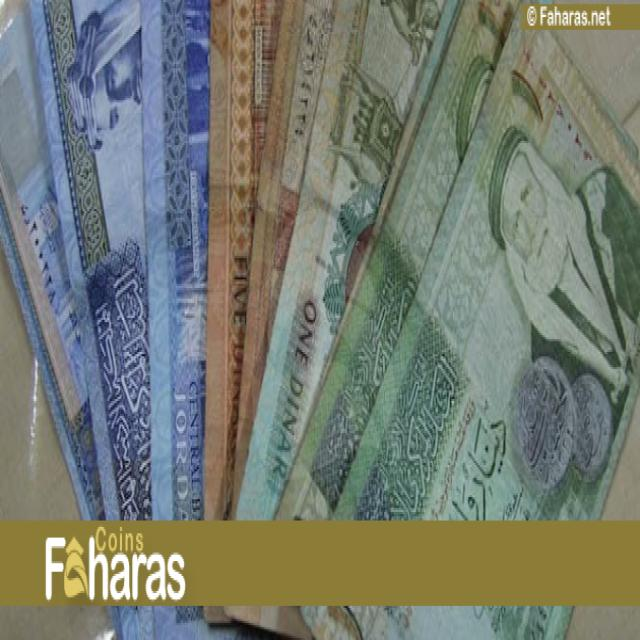1-dinar: (293, 0, 640, 640), (271, 0, 525, 526), (235, 0, 447, 529), (317, 0, 467, 391)
10-dinar: (26, 0, 152, 640), (0, 7, 127, 639), (142, 0, 240, 640)
5-dinar: (232, 0, 337, 525), (209, 0, 285, 625)
